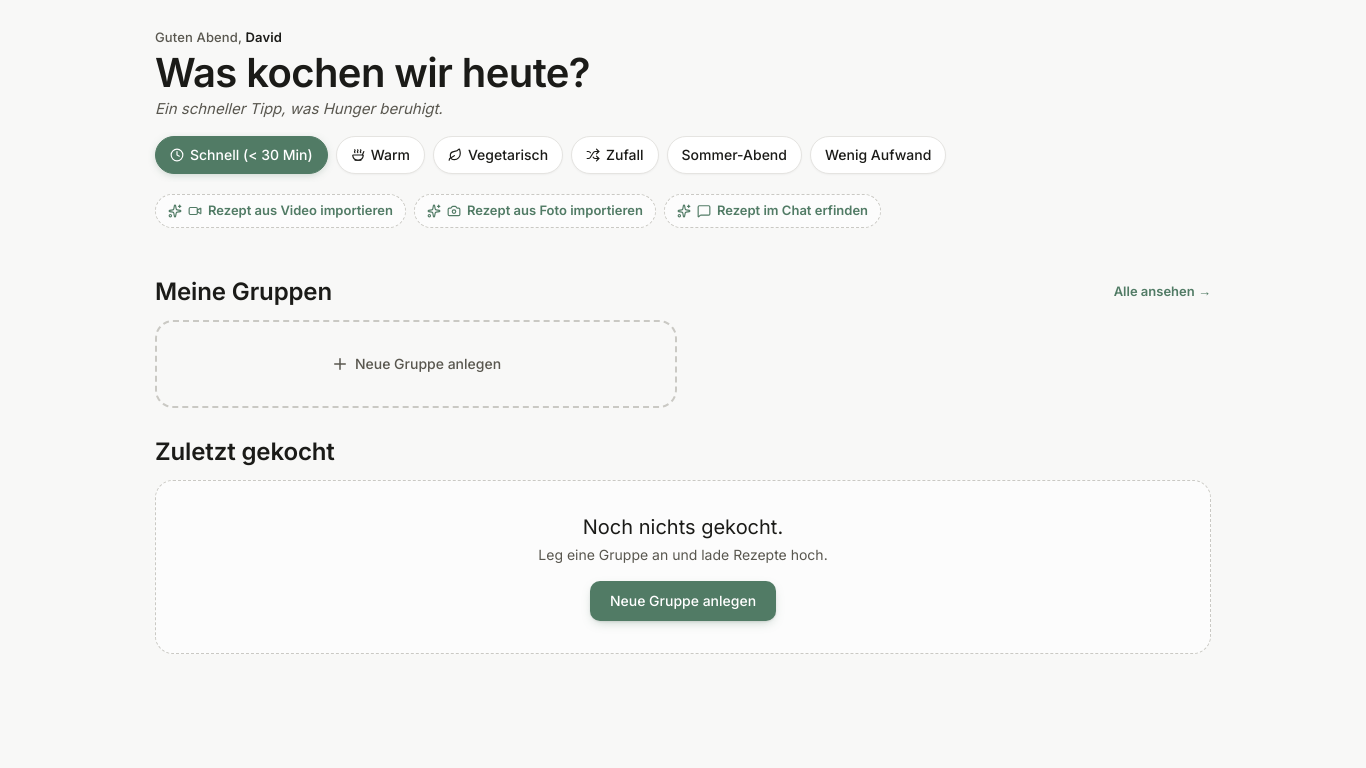
Test case: <HomePage /> › opens the create-group dialog when a chip is clicked and the user has zero groups
This screenshot has width=1366, height=768.
Click the button "Schnell (< 30 Min)".
click(241, 155)  # box 155,136 -> 328,174
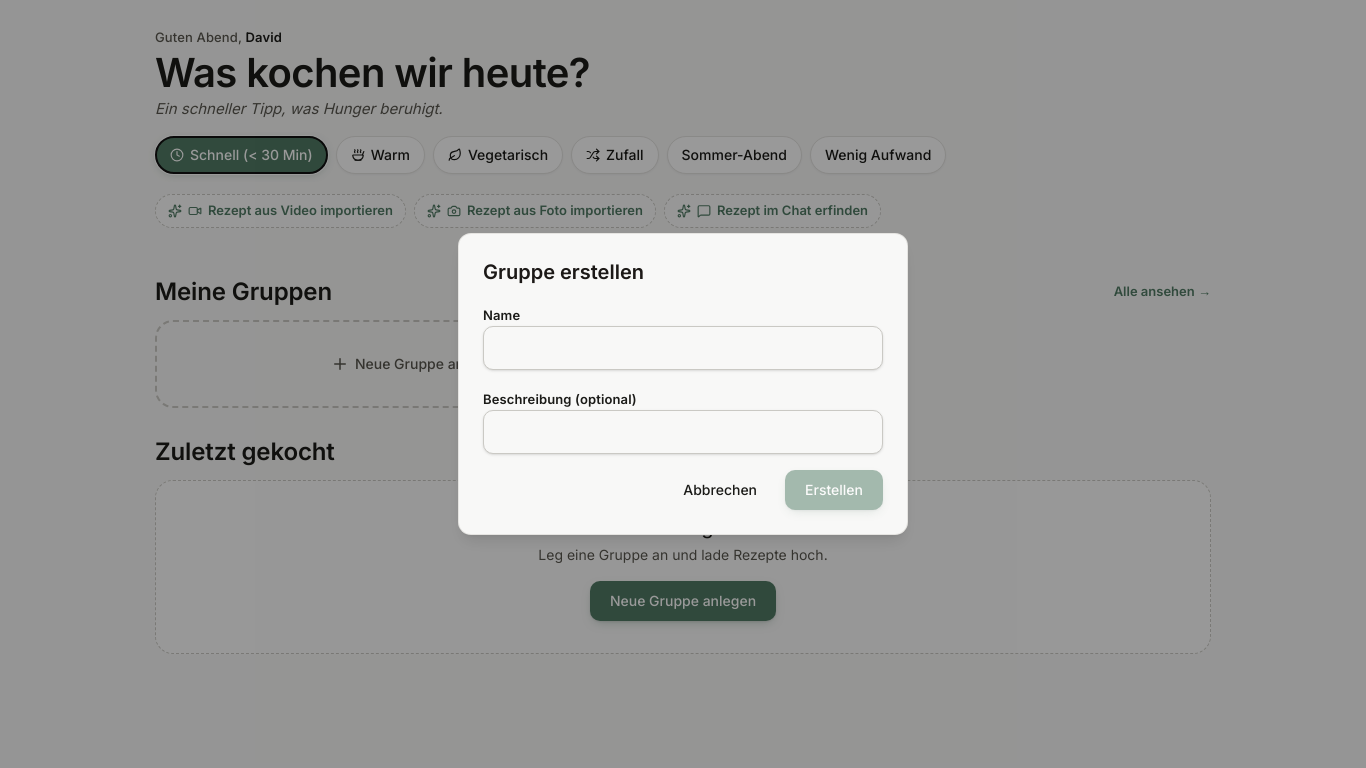
Now the dialog is shown
Now the heading "Gruppe erstellen" is shown, box 483,260 -> 644,284
